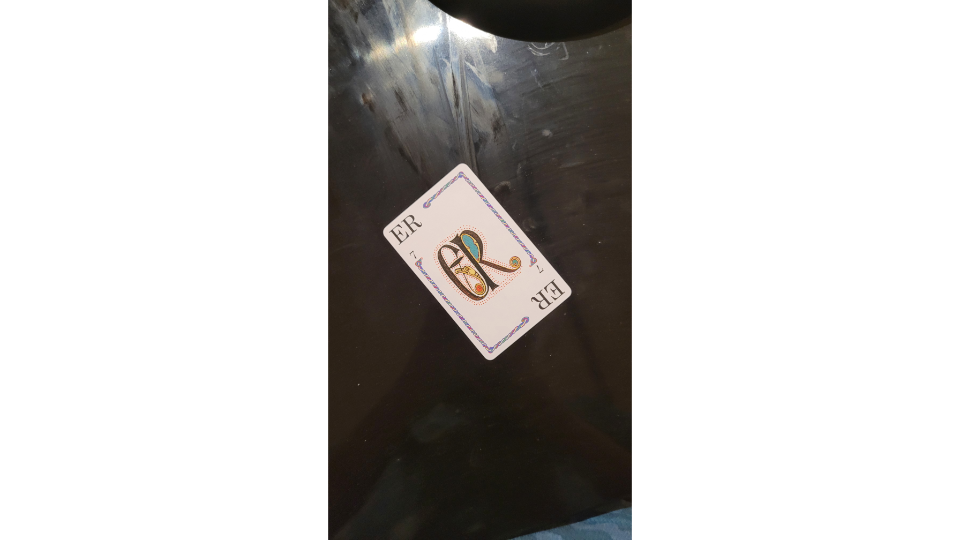ER: (381, 161, 575, 362)
